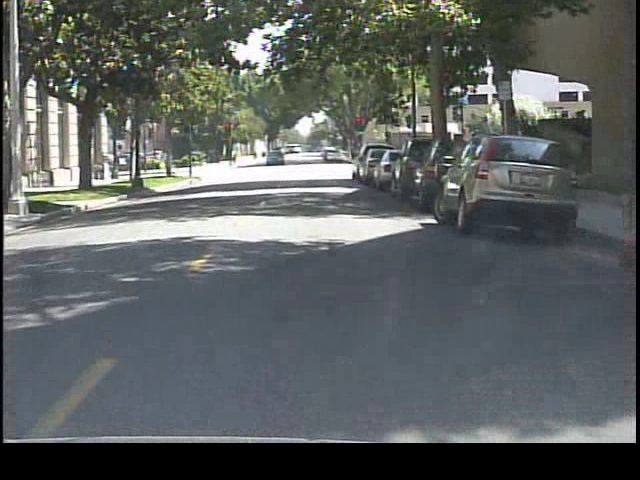person: (229, 141, 242, 168)
